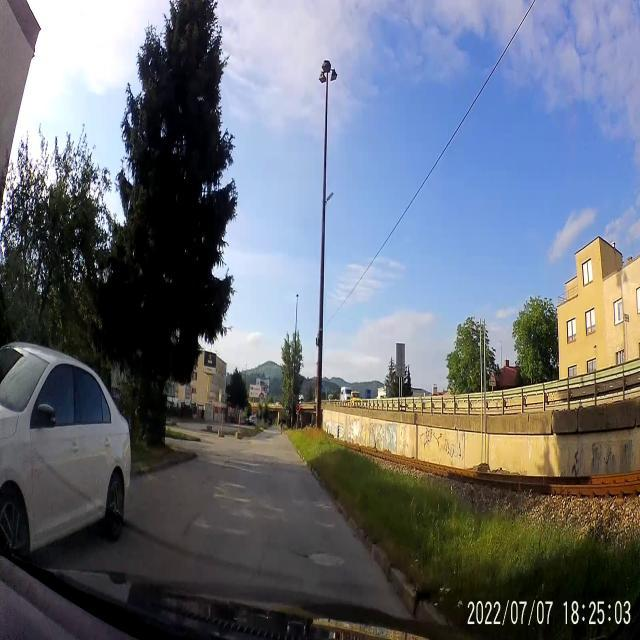Manhole: (304, 548, 344, 574)
